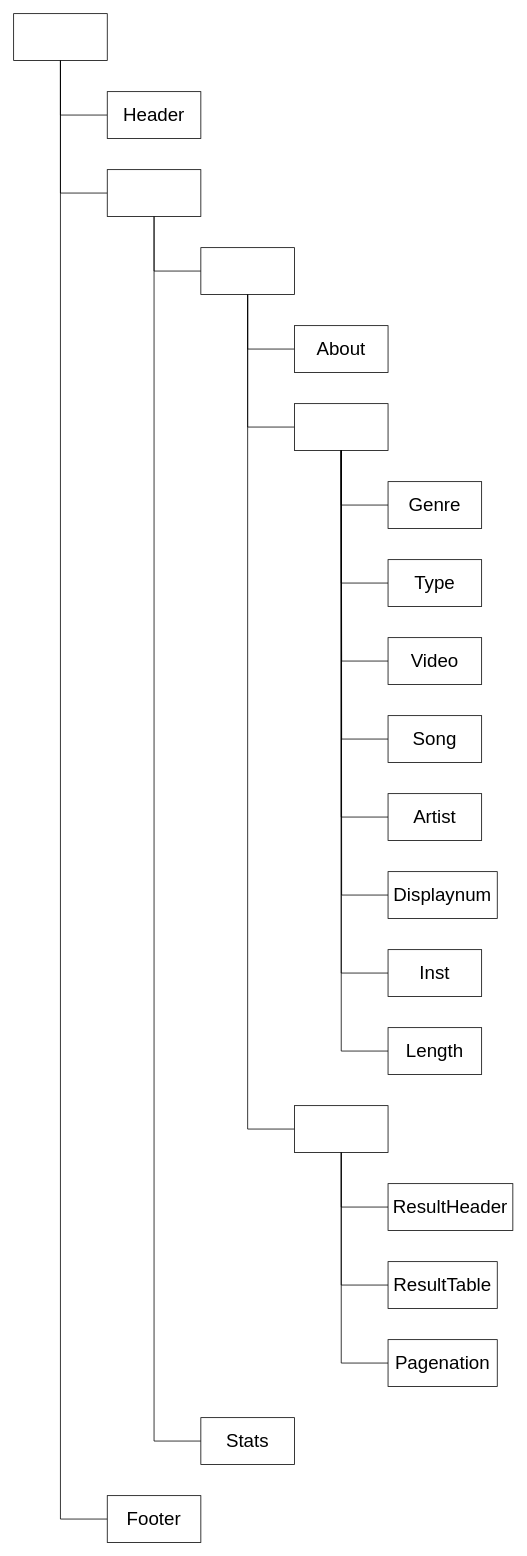
Some shapes in this 527 by 1556 pixel diagram are drawn without their labels. Here are the shapes that lost their labels. From the top down, the centre of each, then its label:
the point at 60,36: Root
the point at 153,192: Main
the point at 247,270: Top
the point at 341,426: Select
the point at 341,1128: Result
